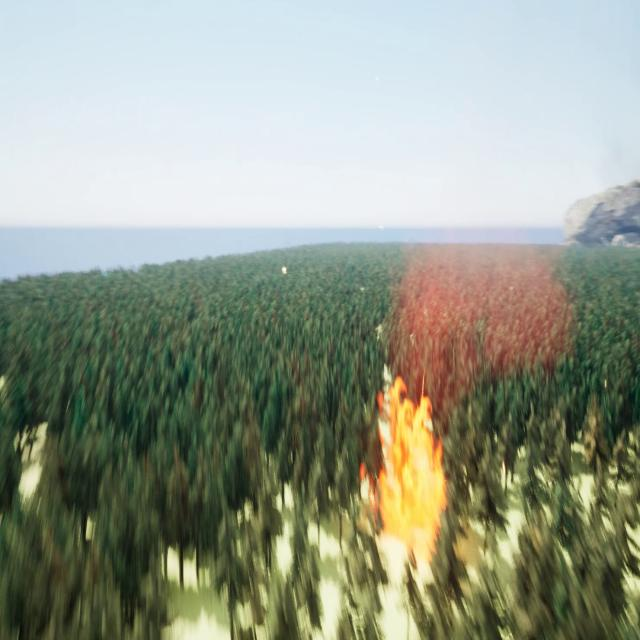fire: (369, 372, 445, 554)
smoke: (390, 236, 578, 414)
